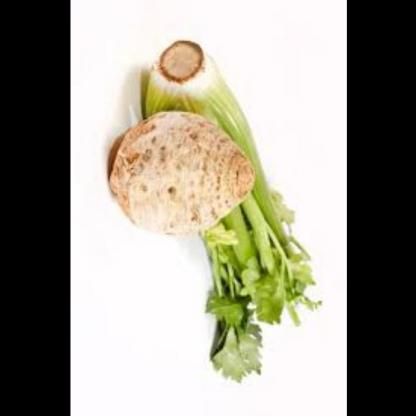celery: (134, 36, 318, 366)
